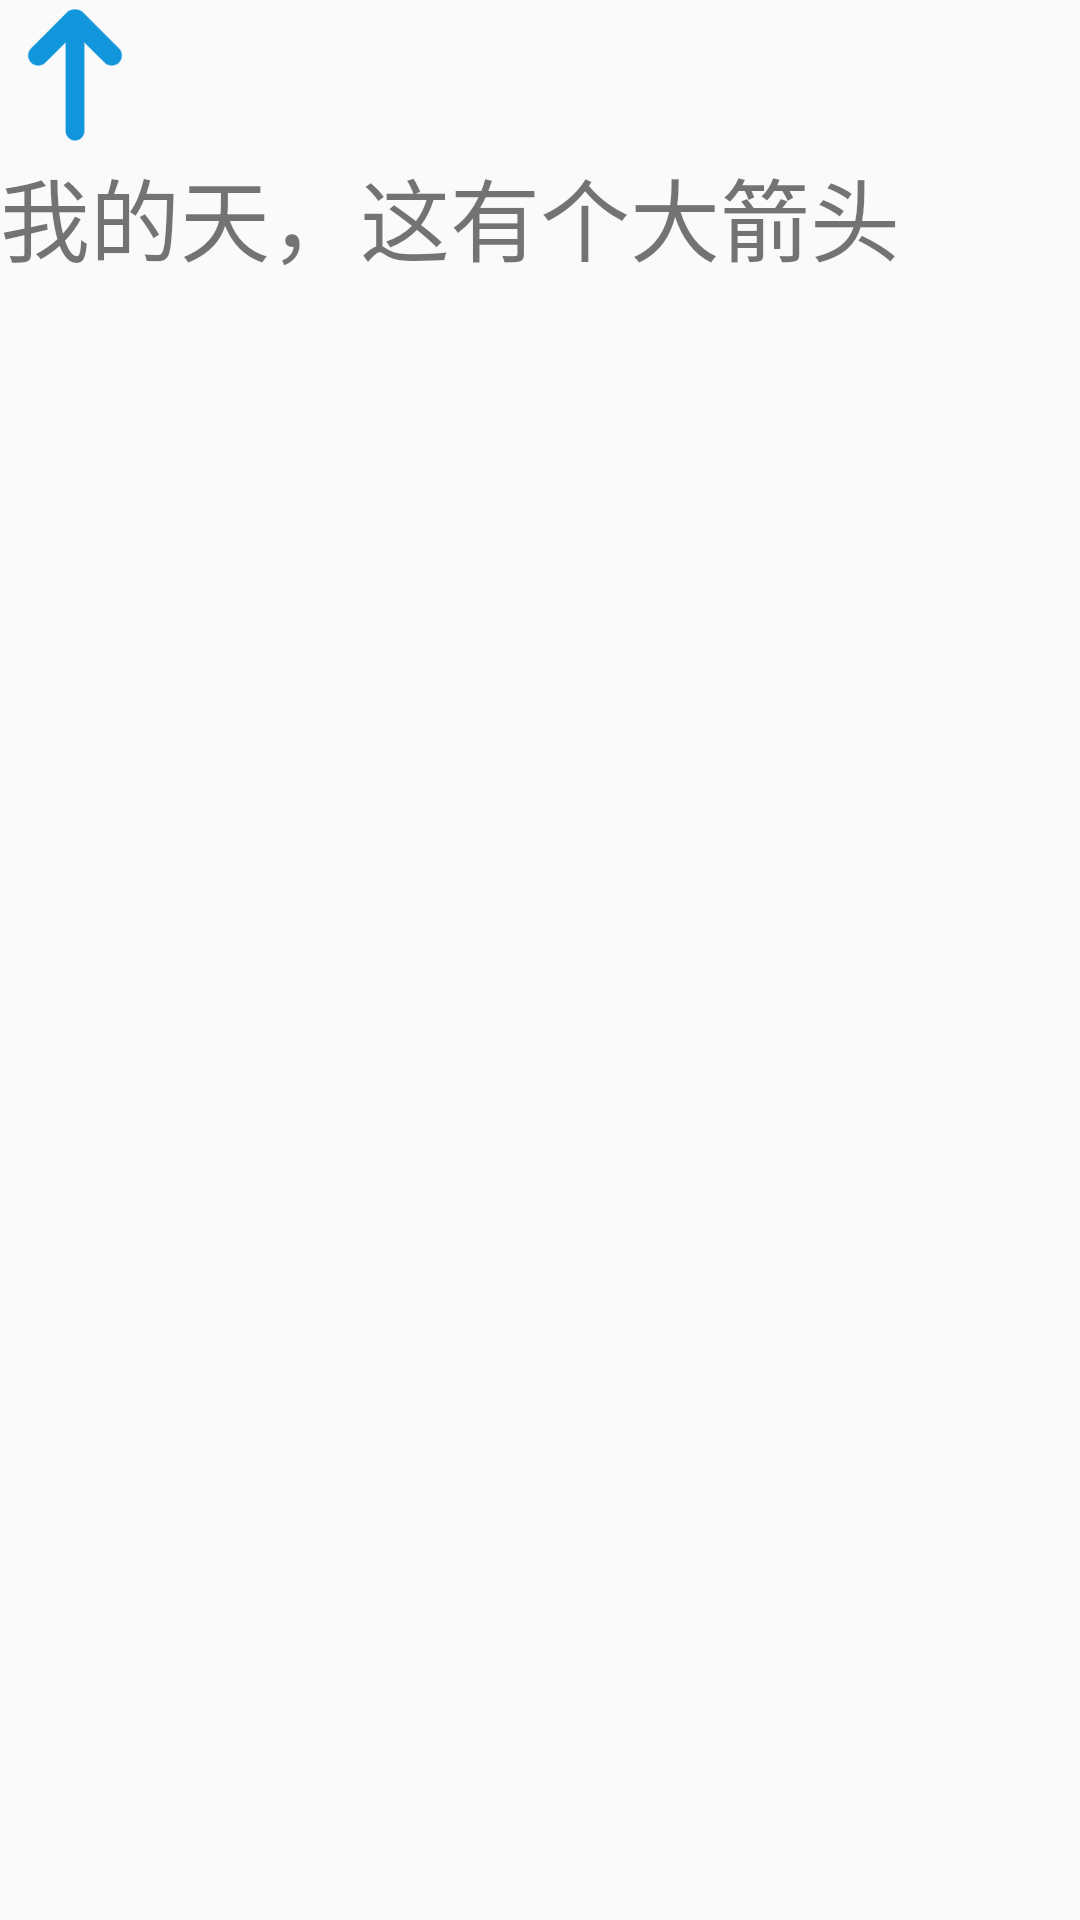

Named icons in this screenshot (1080px x 1920px) and their bounding boxes, bbox=[x1, y1, x2, y2]:
arrow up: bbox=[28, 9, 122, 141]
